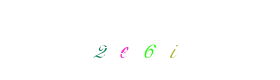2: (83, 0, 163, 80)
6: (100, 0, 180, 80)
E: (90, 0, 170, 80)
I: (100, 0, 180, 80)
